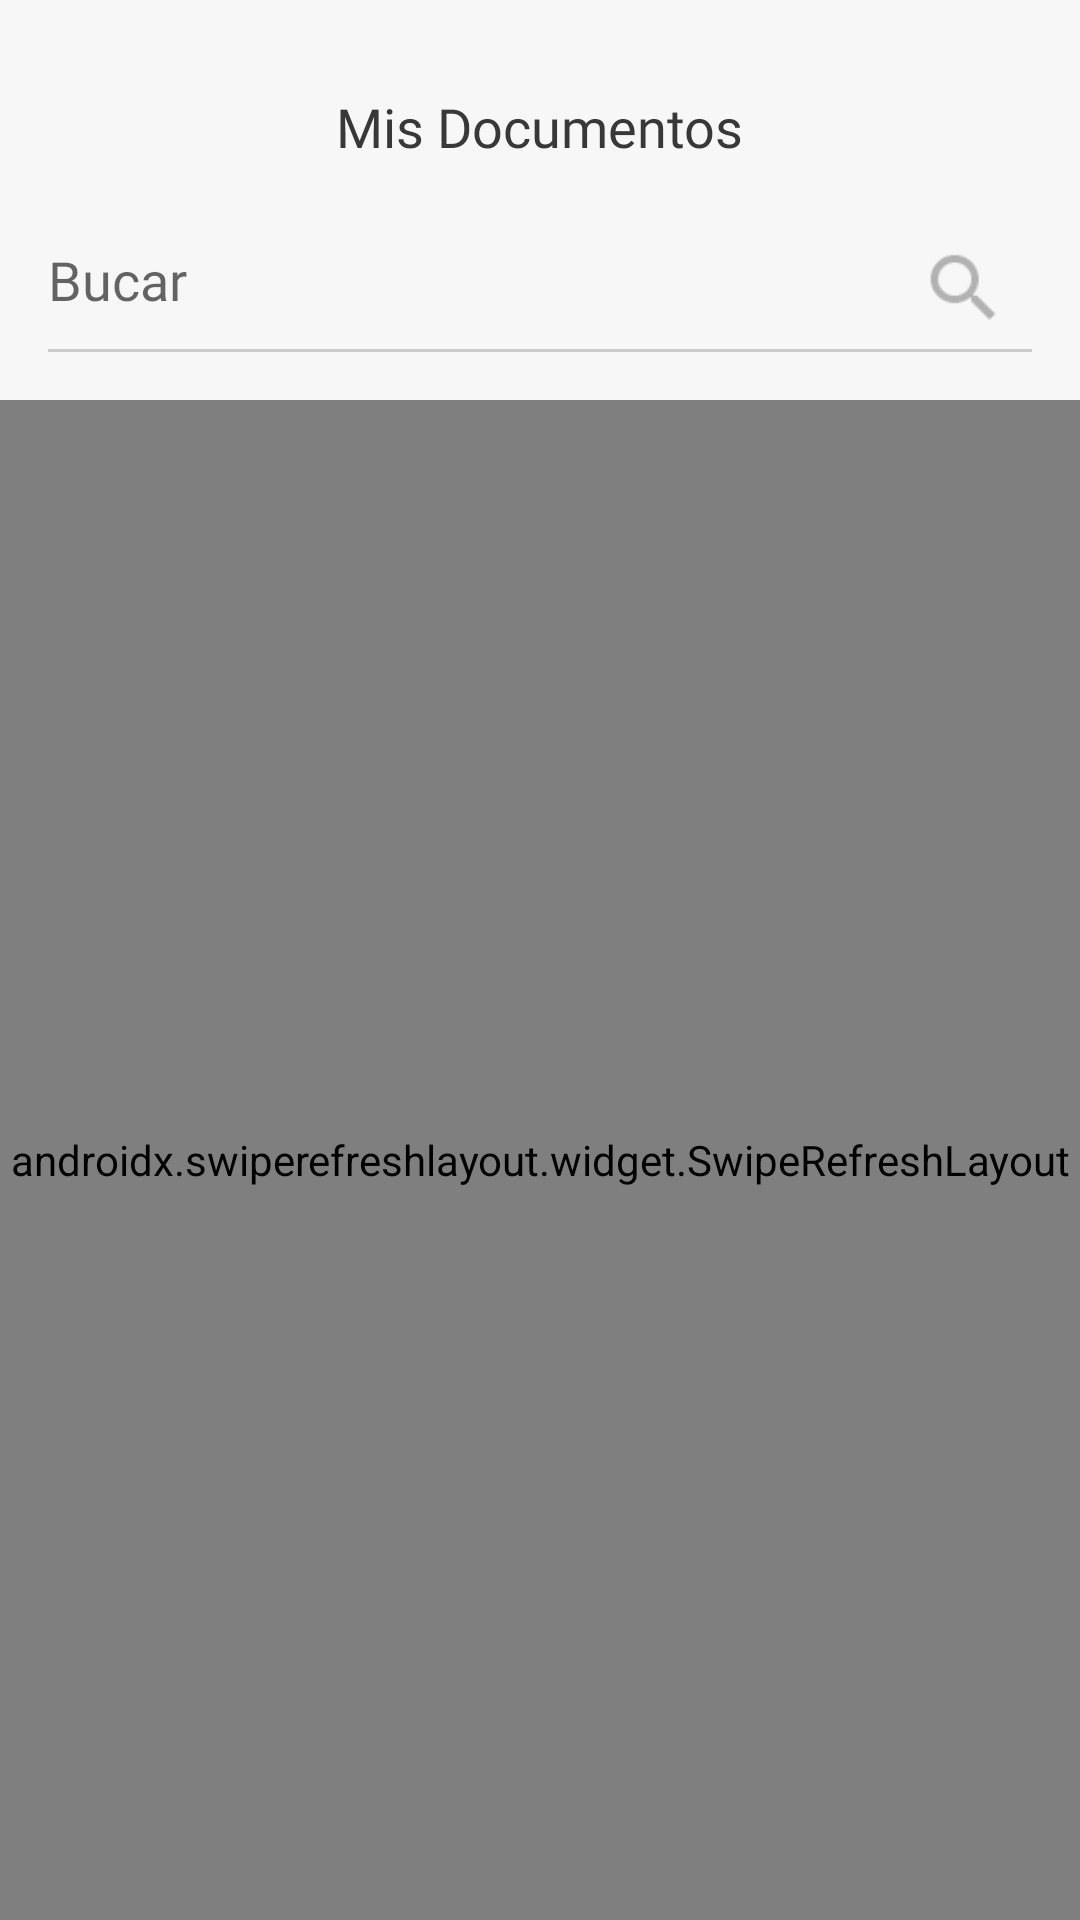

Icon bounding boxes for this 1080 x 1920 phone screenshot, format (x1, y1, x2, y2):
search: (931, 255, 995, 319)
